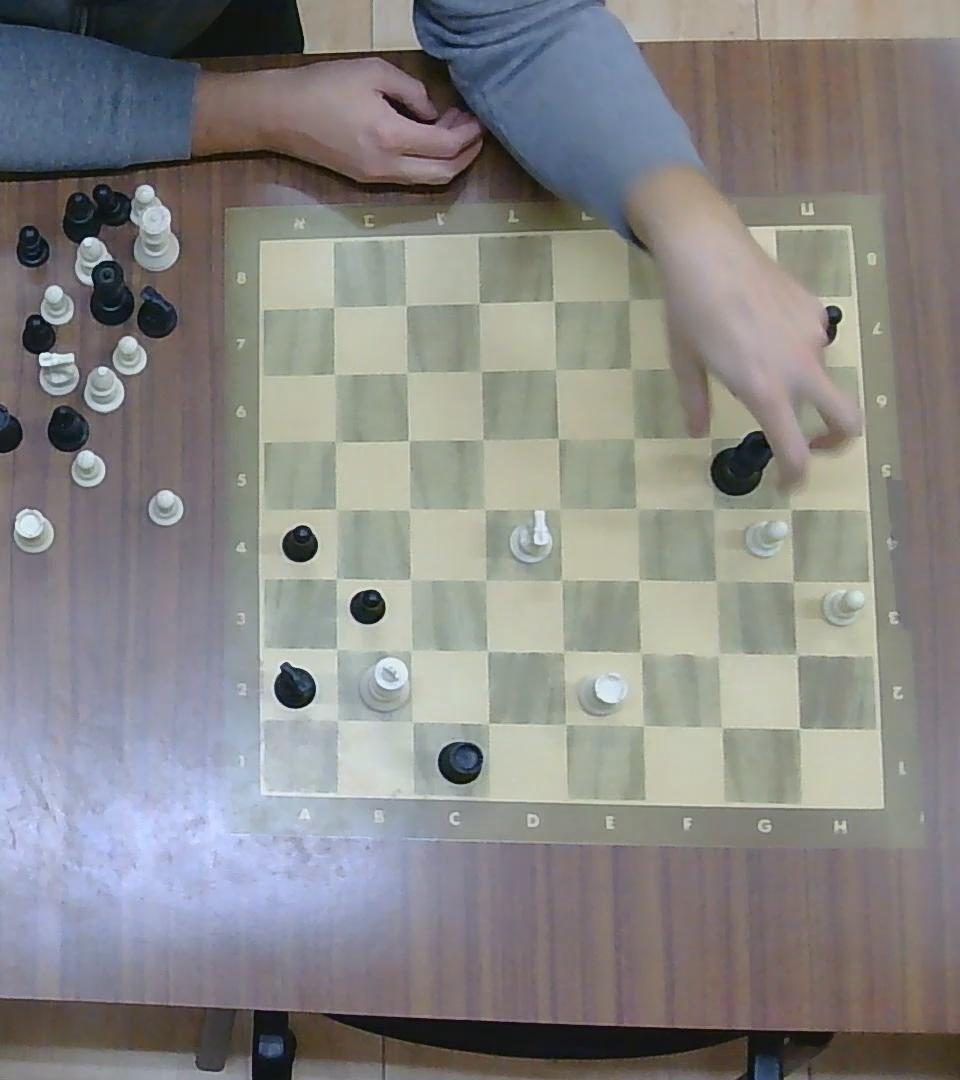xcorner: (702, 638, 734, 670), (776, 564, 808, 596), (705, 710, 736, 743), (625, 635, 656, 667), (548, 706, 579, 738), (626, 709, 657, 741), (320, 703, 352, 734), (781, 637, 812, 668), (783, 711, 813, 743), (622, 563, 652, 594), (396, 705, 427, 735), (320, 634, 351, 664), (548, 636, 578, 666), (472, 707, 502, 737), (700, 565, 730, 595), (615, 283, 645, 313), (699, 492, 728, 523), (548, 563, 577, 594), (623, 492, 652, 523), (771, 416, 800, 447), (770, 350, 799, 381), (472, 636, 501, 666), (776, 491, 805, 521), (471, 564, 500, 593), (619, 353, 648, 382), (319, 292, 348, 321), (547, 494, 575, 524), (469, 424, 497, 453), (465, 287, 493, 316), (392, 289, 420, 318), (543, 353, 571, 382), (396, 635, 424, 664), (470, 495, 498, 523), (467, 355, 495, 383), (540, 286, 568, 314), (393, 357, 421, 385), (321, 359, 349, 386), (693, 352, 721, 379), (622, 422, 648, 451), (686, 284, 712, 313), (766, 284, 792, 313), (396, 494, 423, 521), (546, 423, 572, 450), (396, 425, 422, 452), (323, 426, 349, 453), (699, 423, 725, 450), (324, 496, 350, 523), (397, 566, 423, 591), (323, 566, 348, 591)
